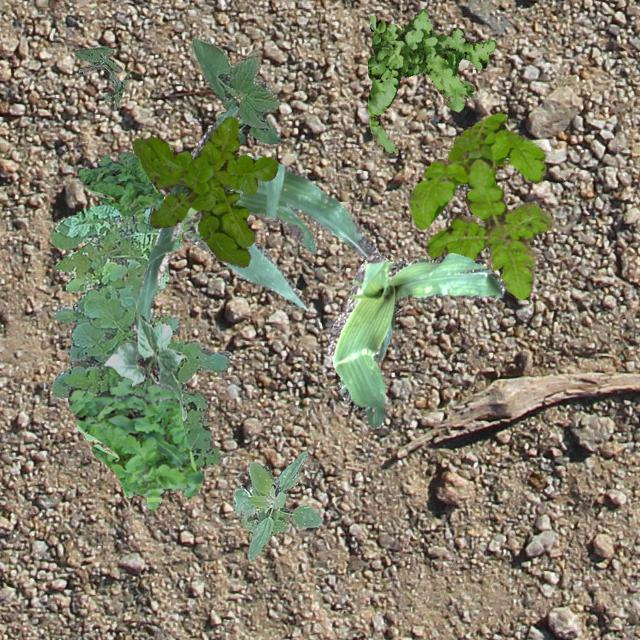crop: (134, 98, 380, 322), (326, 252, 504, 426), (232, 450, 321, 560), (104, 314, 185, 419), (190, 36, 280, 130)
weed: (51, 202, 230, 466), (408, 112, 552, 298), (132, 116, 278, 266), (366, 8, 496, 154), (66, 376, 202, 509), (76, 150, 162, 220), (74, 44, 128, 110), (216, 95, 280, 144), (182, 188, 242, 232)
